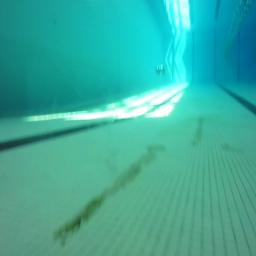front: (156, 64, 166, 74)
